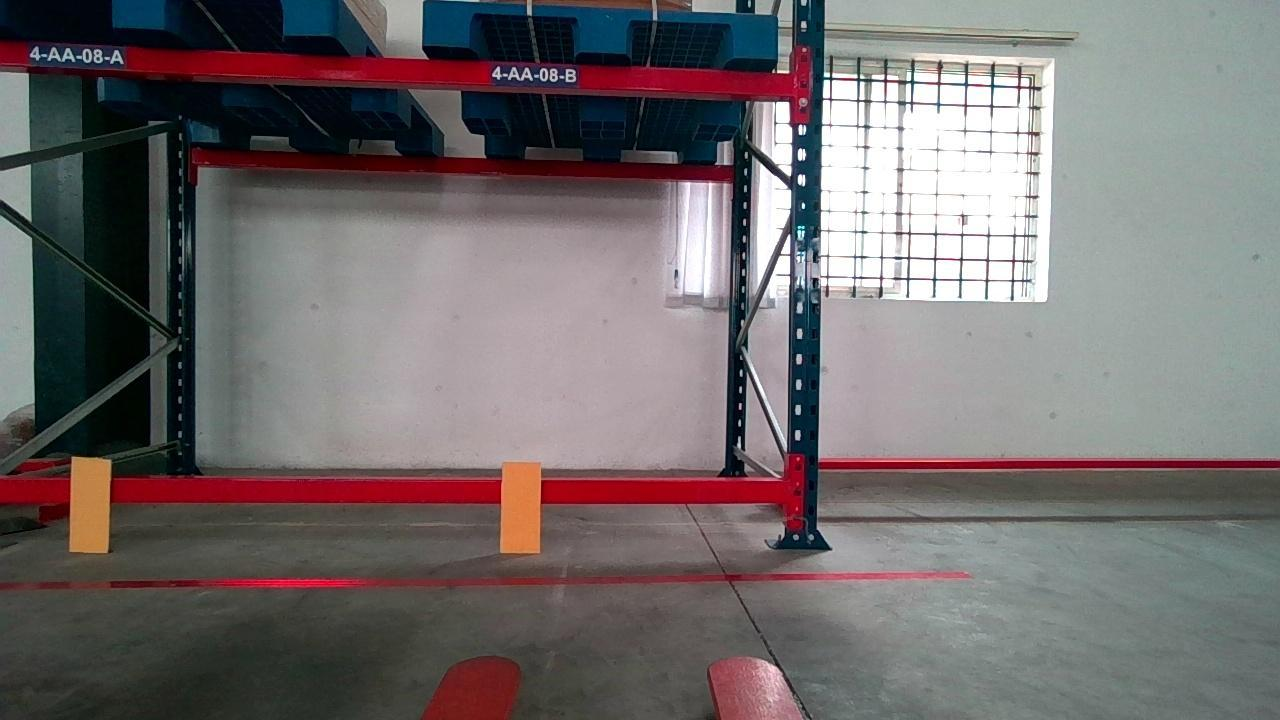h_rack: (0, 36, 790, 93), (0, 477, 788, 503)
orange_strip: (68, 456, 111, 552), (500, 461, 540, 553)
red_line: (0, 568, 969, 587)
small_pallet: (422, 2, 778, 60)
